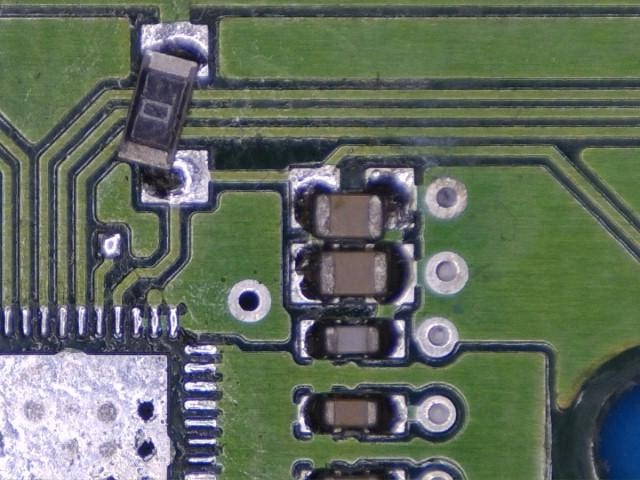pcb_defect: (115, 22, 211, 205), (290, 167, 416, 239)
